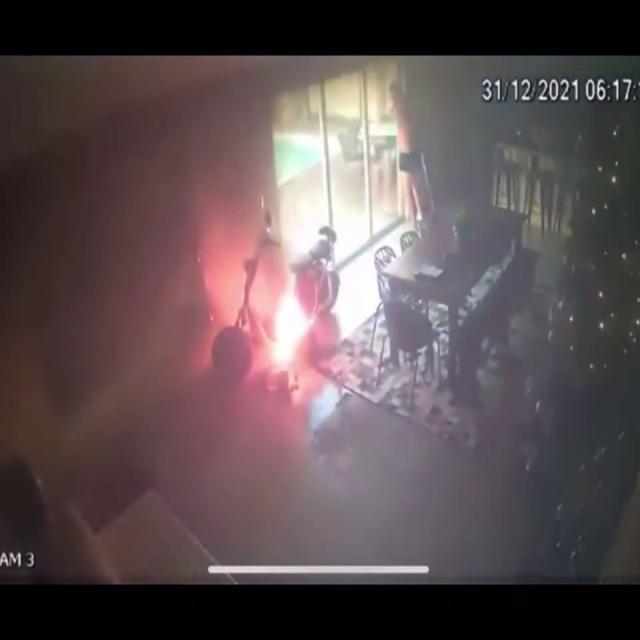Fire: (257, 252, 323, 376)
Smoke: (0, 59, 214, 468)
